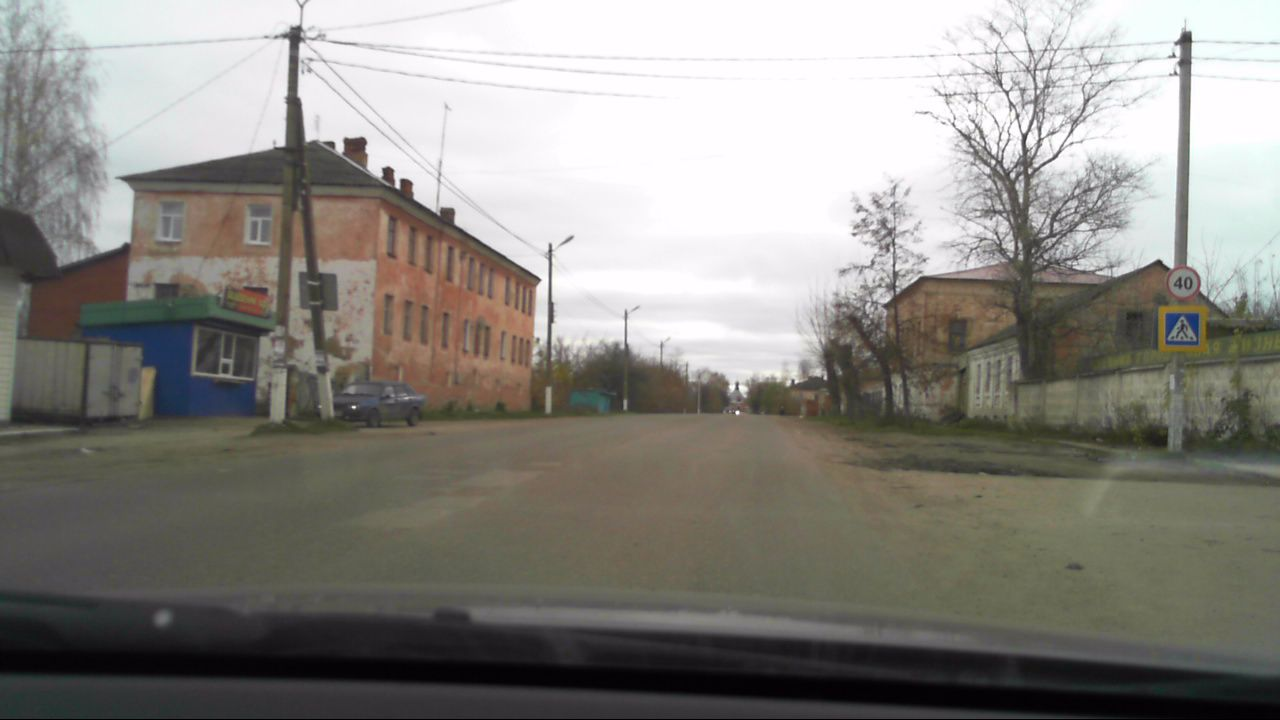speed_warning_40: (1164, 265, 1204, 304)
